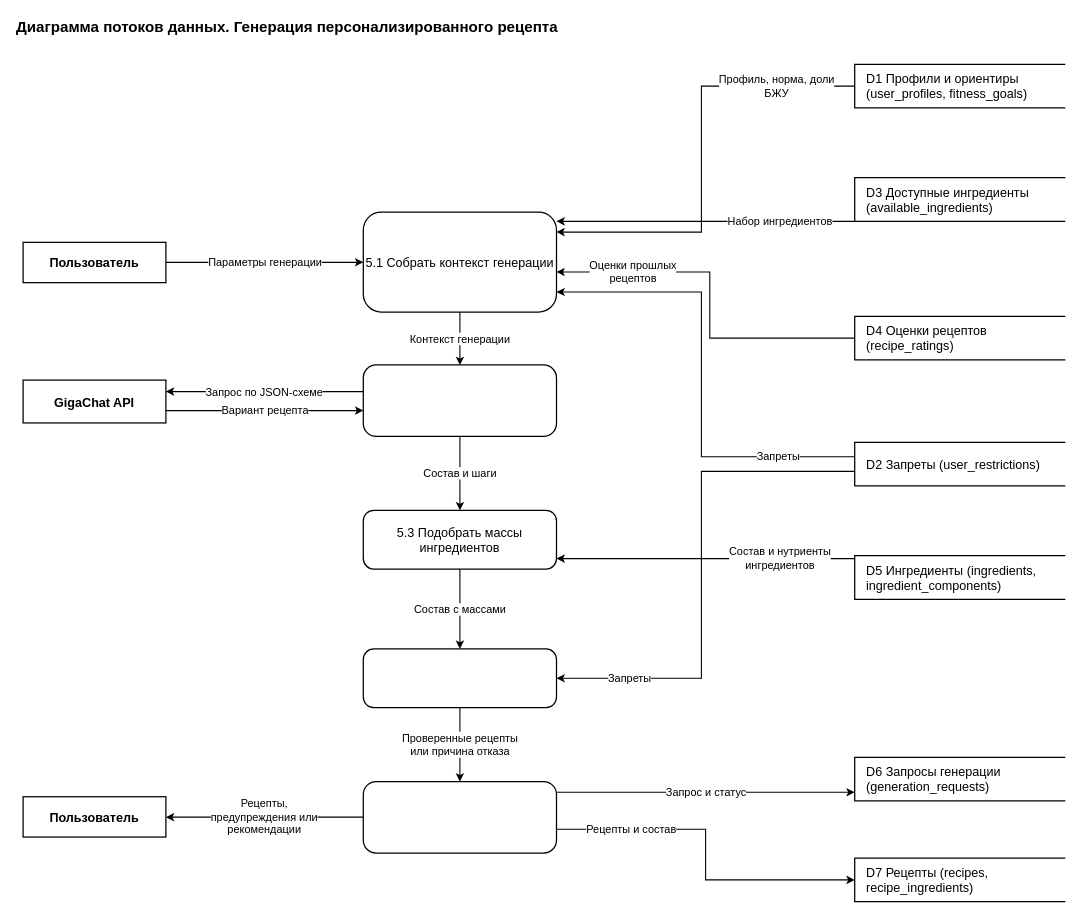
Image size: 1079x916. Some labels were removed from this diagram. The shapes that lost their labels are listed below. From the top down, each one's centre as x and y in pixels, then its label:
the point at 459,400: 5.2 Получить вариант рецепта
the point at 459,678: 5.4 Рассчитать БЖУ и проверить запреты
the point at 459,817: 5.5 Сохранить запрос и рецепты
